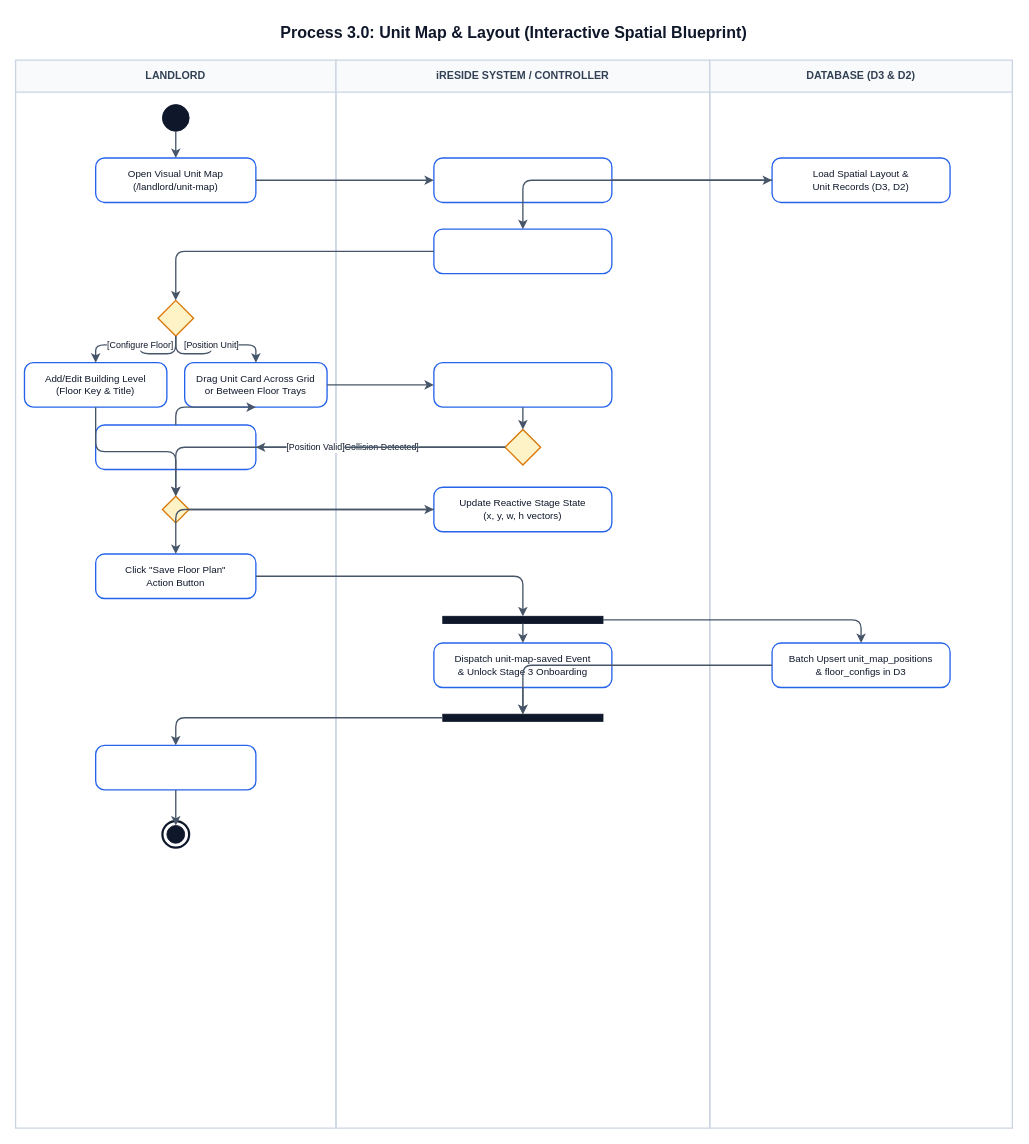
The diagram is 1029 pixels wide and 1144 high, and some of its shapes have lost their labels. The shapes that lost their labels are listed below. From the top down, each one's centre as x and y in pixels, then its label:
At (522,180): "Query property_floor_configs, units, & unit_map_positions".
At (522,251): "Render Interactive 2D Grid Canvas with Color-Coded Vacancy Pins".
At (522,384): "Compute Coordinate Snapping & Collision Bounds".
At (175,447): "Snap Back Card & Display Placement Collision Warning".
At (175,767): "Present Completion Choice Dialog (Proceed, Explore, or Dashboard)".
